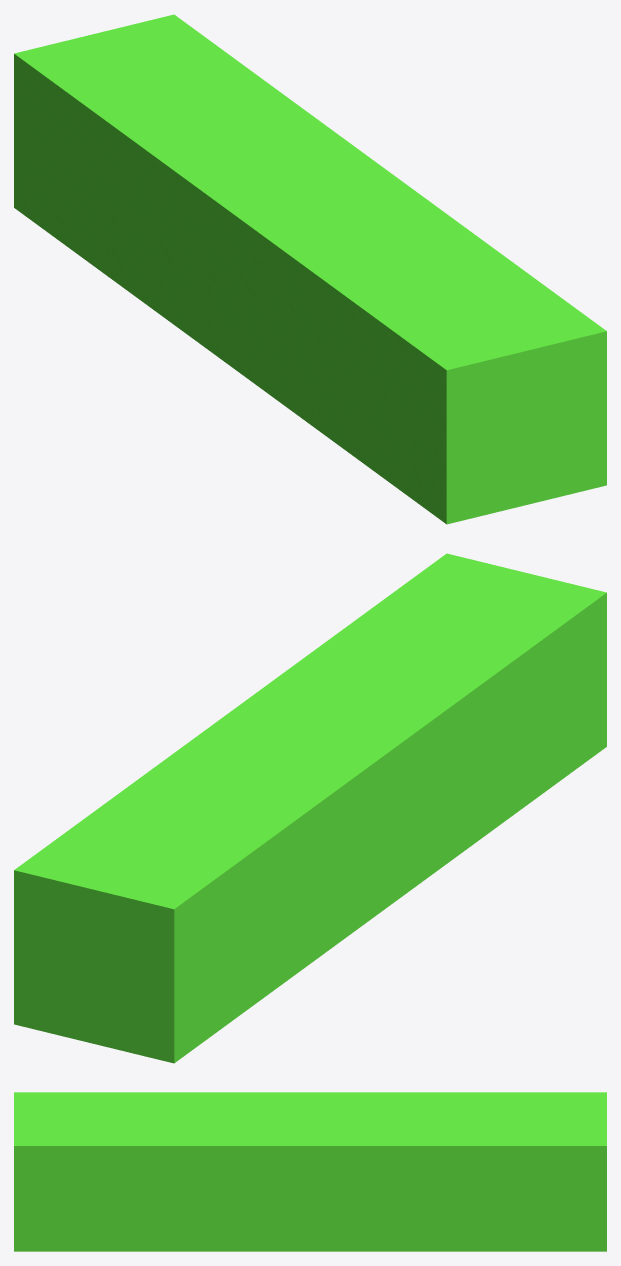
Rendered from bush_2_dark_long.fbx.
The picture shows the model from 3 angles, top to bottom: view 1: azimuth 30°, elevation 25°; view 2: azimuth 150°, elevation 25°; view 3: azimuth 270°, elevation 25°; orthographic projection. The views are drawn at different scales.
Visible parts, largest first — view 1: Cube.060; view 2: Cube.060; view 3: Cube.060.
Part boxes in pixels (x1=…): Cube.060: x1=14, y1=14, x2=606, y2=524; Cube.060: x1=14, y1=553, x2=606, y2=1063; Cube.060: x1=14, y1=1092, x2=606, y2=1251.
Size of the model in its own units: 217 by 200 by 1017.
1 material, 1 textured.
